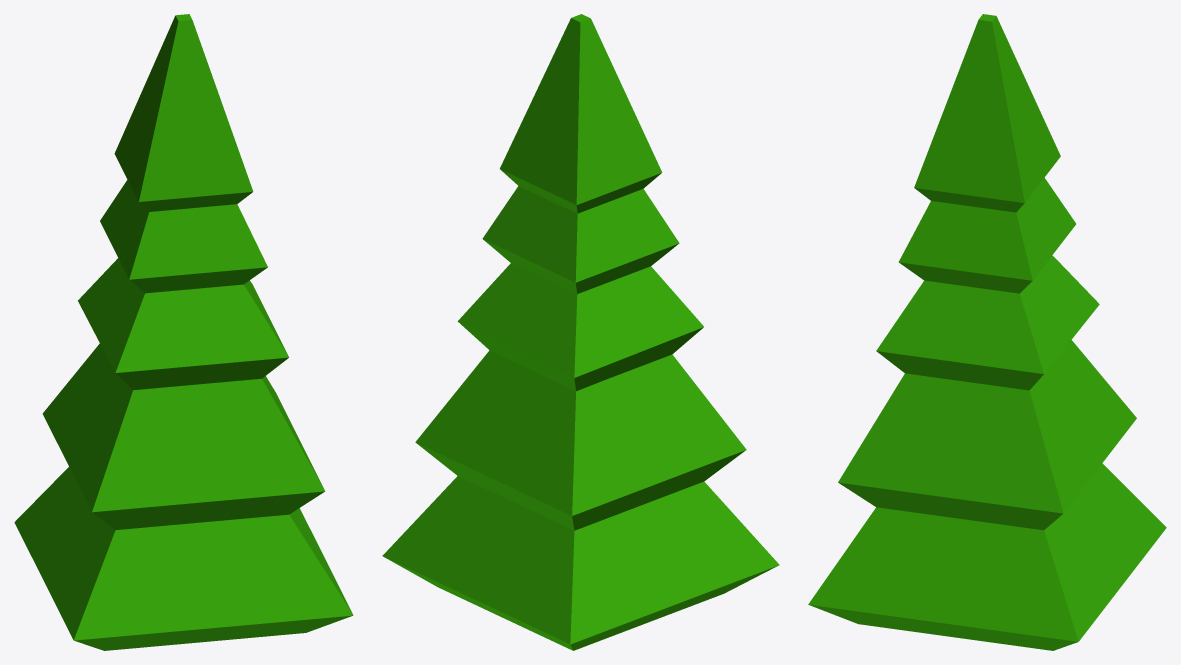
File: evergreen tree.fbx
3 renders of one model, left to right at view 1: azimuth 30°, elevation 25°; view 2: azimuth 150°, elevation 25°; view 3: azimuth 270°, elevation 25°, orthographic.
Visible parts, largest first — view 1: pCube7; view 2: pCube7; view 3: pCube7.
Boxes of the visible parts, left/top/right/bottom form: pCube7: left=14, top=14, right=353, bottom=650; pCube7: left=382, top=14, right=779, bottom=650; pCube7: left=808, top=14, right=1166, bottom=650.
Size of the model in its own units: 23.74 by 42.25 by 23.74.
